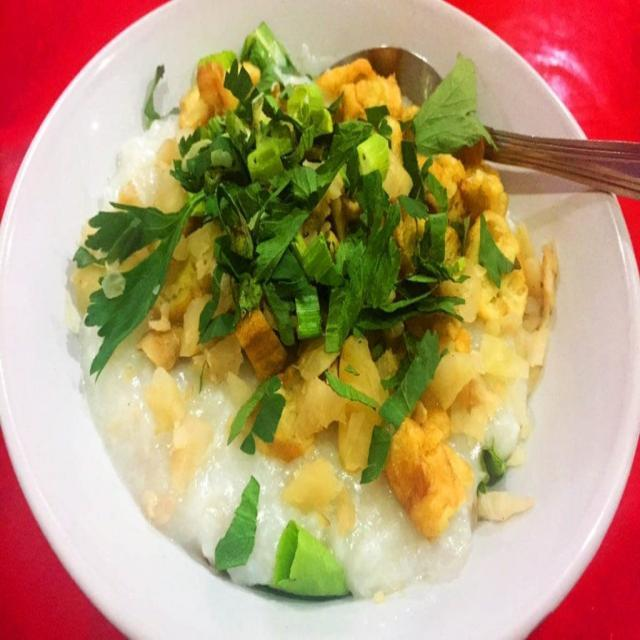bubur ayam: (84, 48, 554, 590)
mangkuk: (0, 2, 638, 630)
